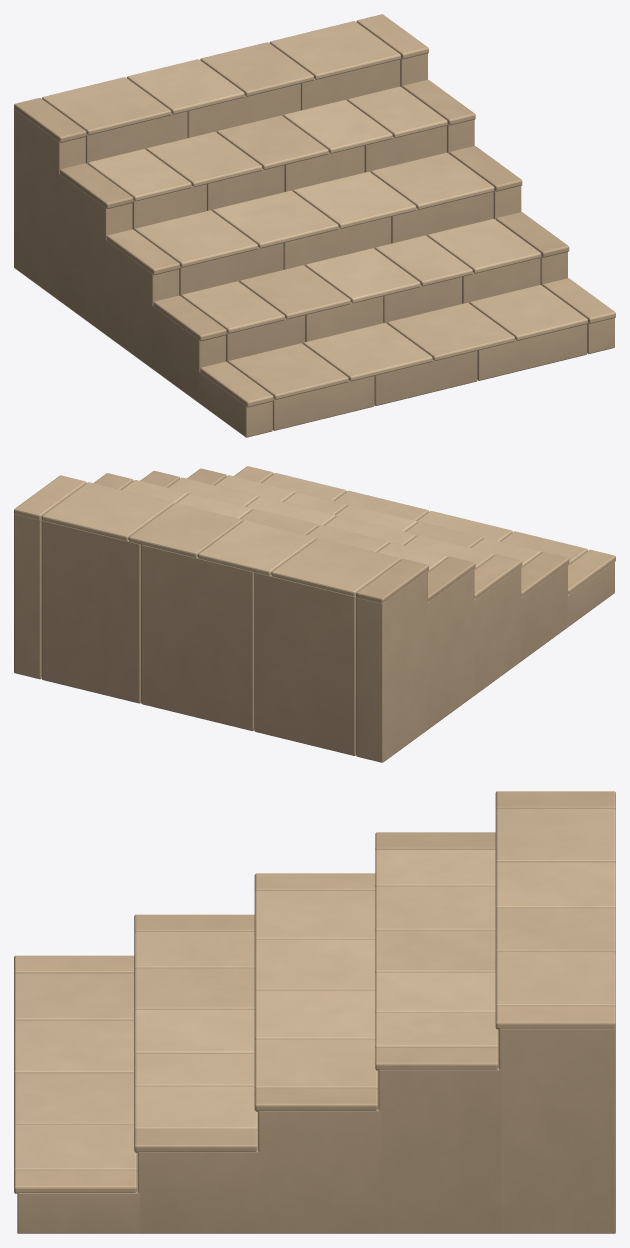
Rendered from summit-steps.glb.
The picture shows the model from 3 angles, top to bottom: view 1: azimuth 30°, elevation 25°; view 2: azimuth 150°, elevation 25°; view 3: azimuth 270°, elevation 25°; orthographic projection. The views are drawn at different scales.
Parts seen in each view (by area): view 1: summit-steps; view 2: summit-steps; view 3: summit-steps.
Part boxes in pixels (left/top/right/bottom): summit-steps: left=14, top=14, right=615, bottom=437; summit-steps: left=14, top=466, right=615, bottom=762; summit-steps: left=14, top=791, right=615, bottom=1233.
Size of the model in its own units: 3.1 by 1.32 by 3.4.
1 material, 1 textured.
